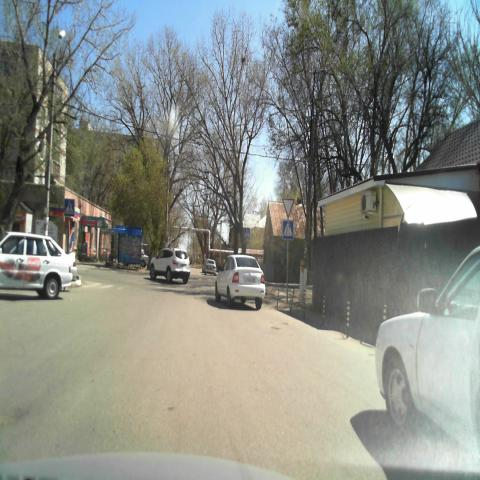2_4: (282, 198, 294, 219)
